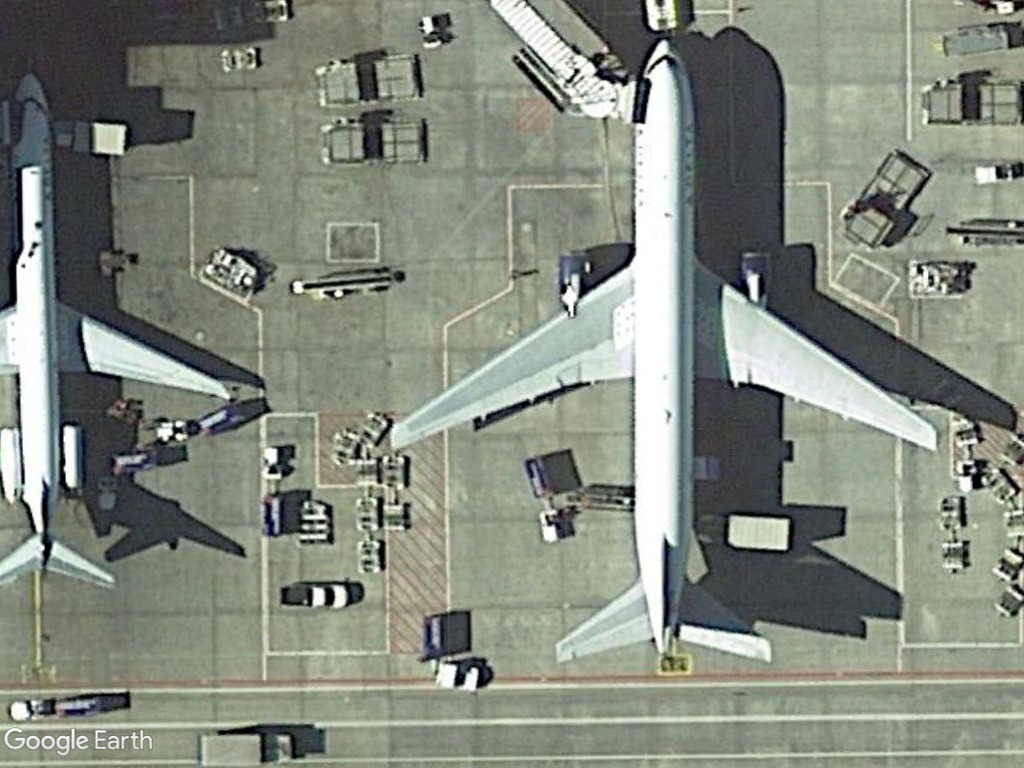airliner: (373, 29, 935, 688)
